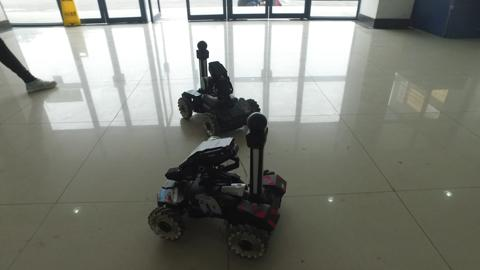chariot: (143, 109, 294, 261), (172, 35, 266, 141)
